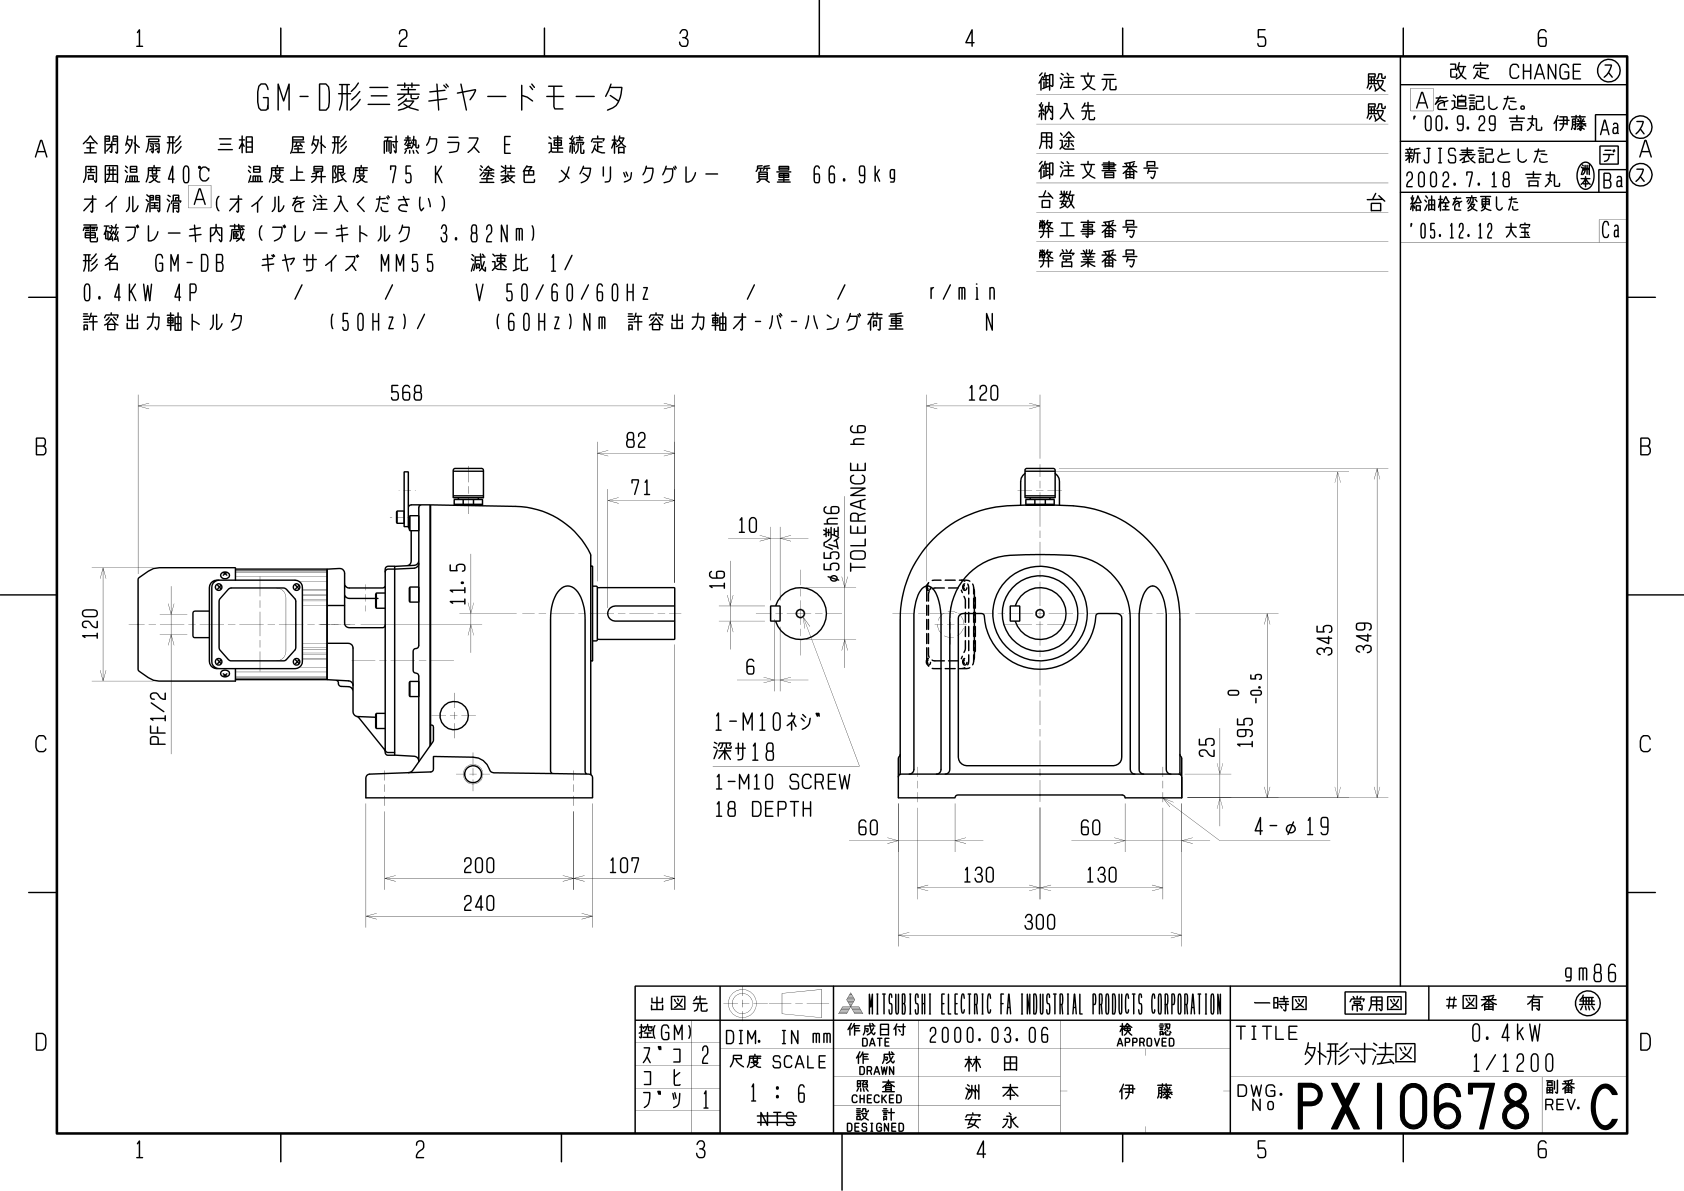GM_D_屋外＿三相_脚: (15, 12, 1684, 1191)
